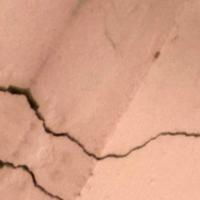crack: (0, 74, 199, 199)
